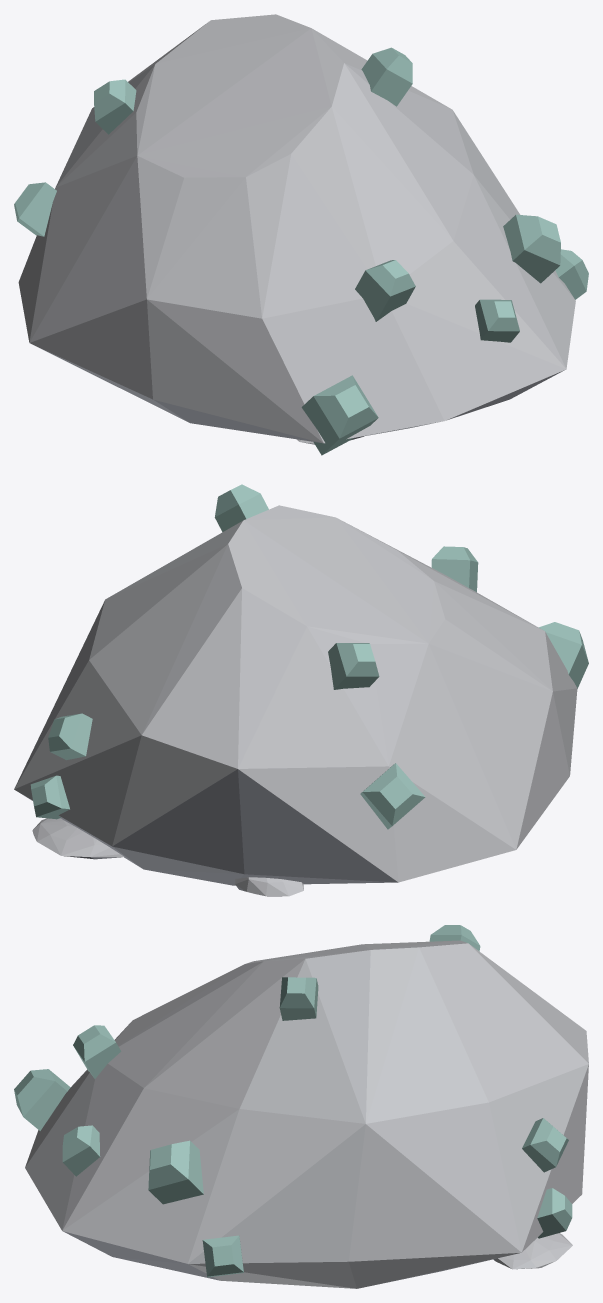
Rendered from SM_MR_Crystal_Large_06.fbx.
The picture shows the model from 3 angles, top to bottom: view 1: azimuth 30°, elevation 25°; view 2: azimuth 150°, elevation 25°; view 3: azimuth 270°, elevation 25°; orthographic projection. The views are drawn at different scales.
Parts seen in each view (by area): view 1: SM_MR_Crystal_Large_06; view 2: SM_MR_Crystal_Large_06; view 3: SM_MR_Crystal_Large_06.
Boxes of the visible parts, x1,y1,x2,y2 form: SM_MR_Crystal_Large_06: (14,14,588,455); SM_MR_Crystal_Large_06: (14,484,588,896); SM_MR_Crystal_Large_06: (14,925,588,1288).
Size of the model in its own units: 2.41 by 2.65 by 1.42.
